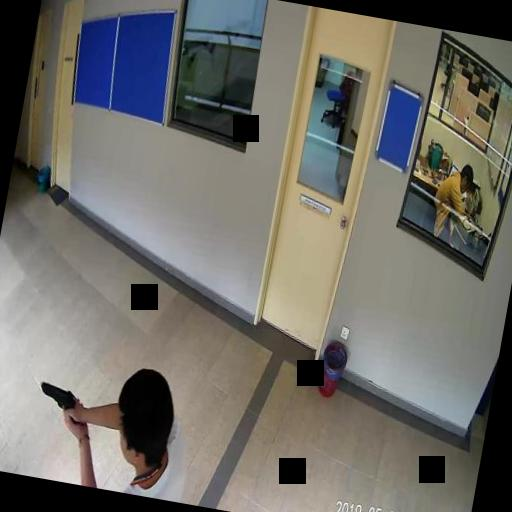Handgun: (34, 380, 82, 426)
